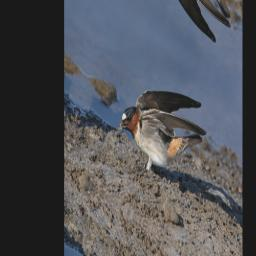Swallow: (111, 56, 212, 211)
